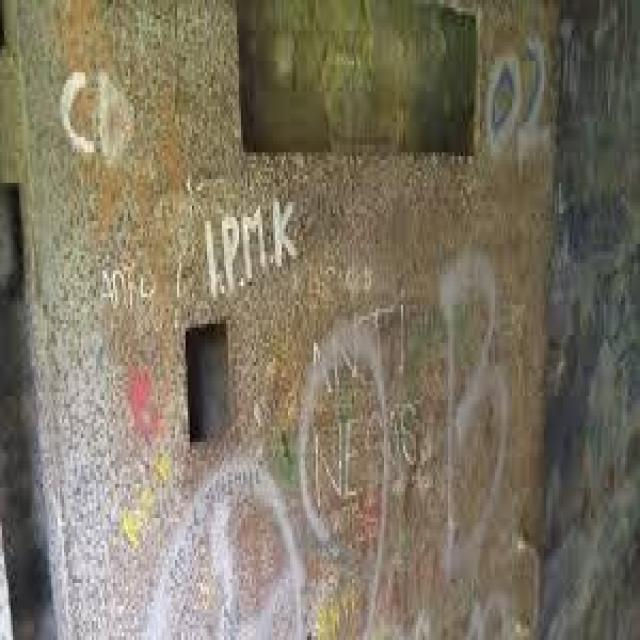nonspitting: (148, 247, 508, 638), (204, 198, 298, 297), (484, 30, 550, 154), (60, 68, 136, 165)
